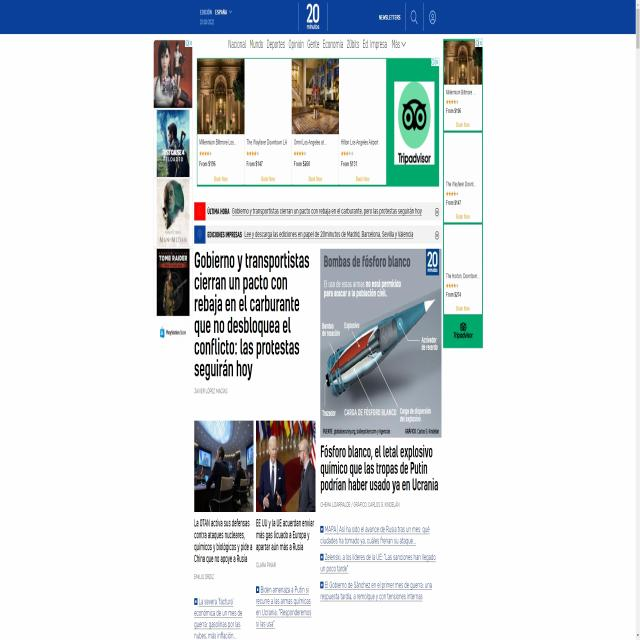menu-bar: (376, 1, 438, 32)
tab-bar: (226, 36, 407, 56)
